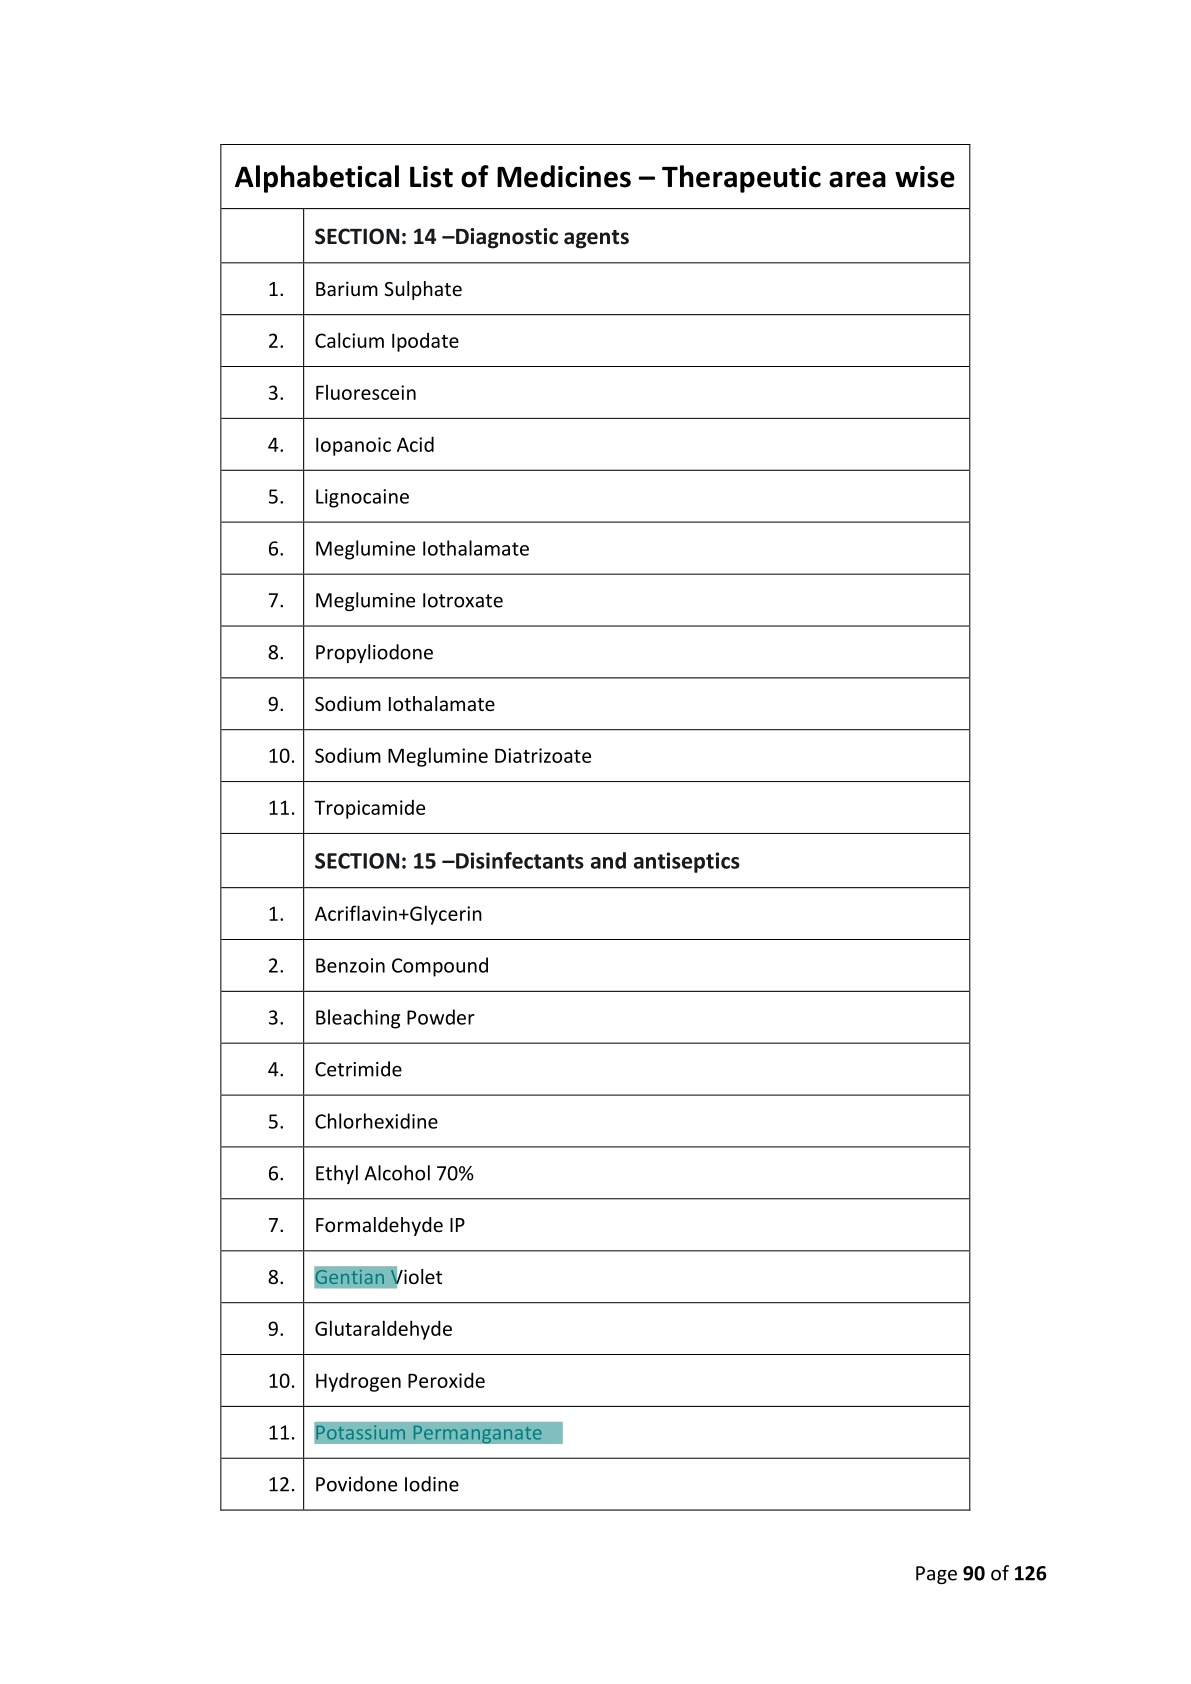merged_cells: (219, 143, 971, 1513)
